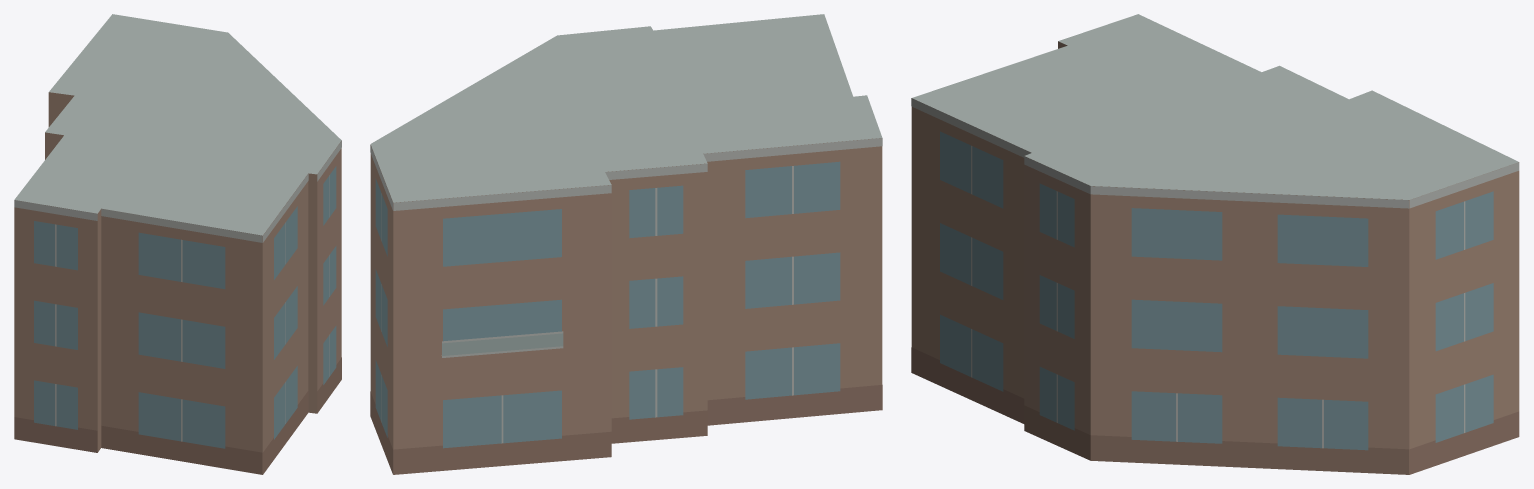
File: survey-upis-32767518.glb
3 views of the same model, side by side, from view 1: azimuth 30°, elevation 25°; view 2: azimuth 150°, elevation 25°; view 3: azimuth 270°, elevation 25° (orthographic). The views are drawn at different scales.
Visible parts, largest first — view 1: survey-upis-32767518.tmp; view 2: survey-upis-32767518.tmp; view 3: survey-upis-32767518.tmp.
Part boxes in pixels (left/top/right/bottom): survey-upis-32767518.tmp: left=14, top=14, right=341, bottom=474; survey-upis-32767518.tmp: left=370, top=14, right=882, bottom=474; survey-upis-32767518.tmp: left=911, top=14, right=1519, bottom=474.
Bounding box in the file's own units: 11.48 × 7.9 × 15.84.
